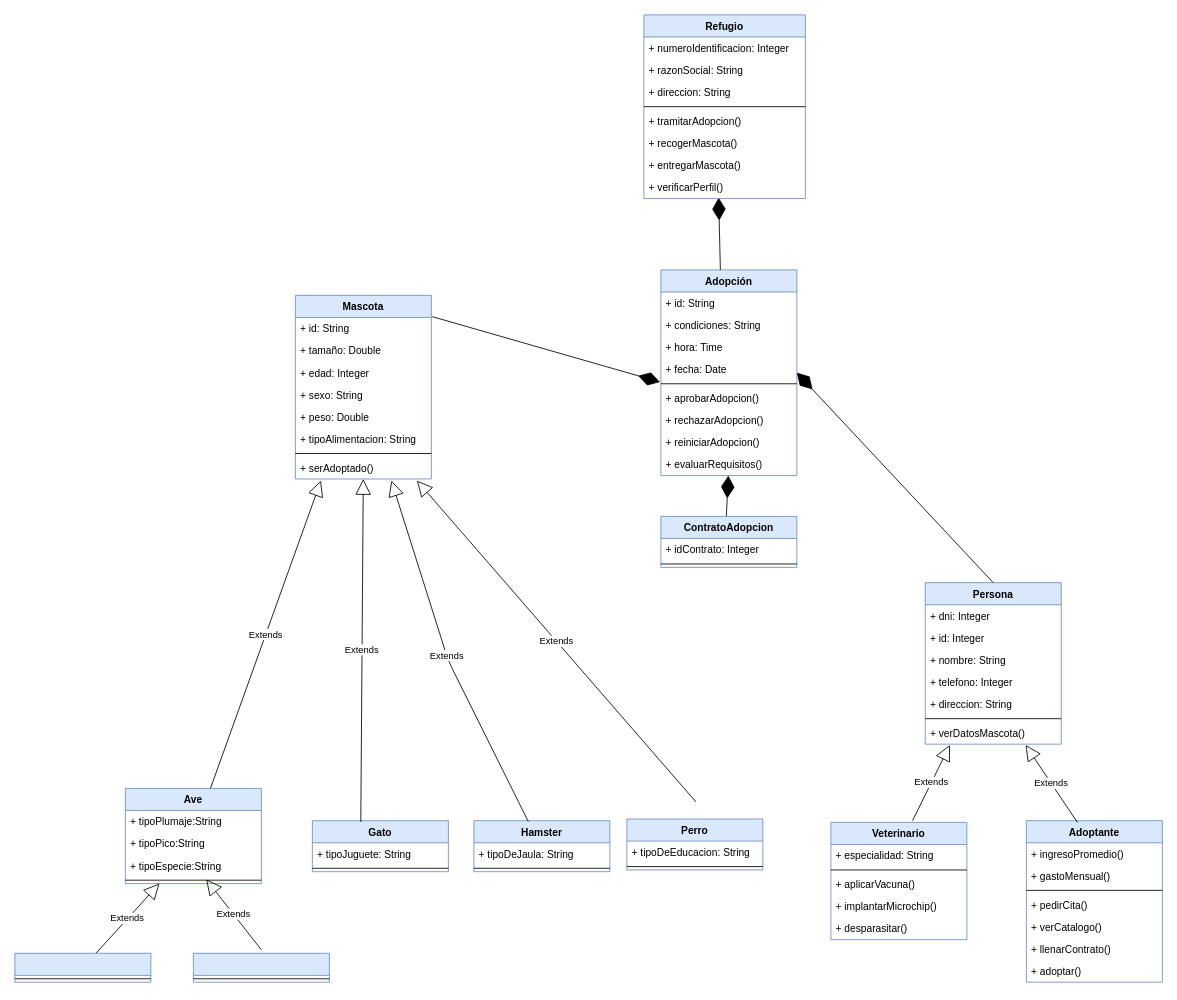
Some shapes in this 1177 by 1000 pixel diagram are drawn without their labels. The shapes that lost their labels are listed below. From the top down, each one's centre as x and y in pixels, then its label:
At point (82, 967): "Perico".
At point (261, 967): "Loro".
